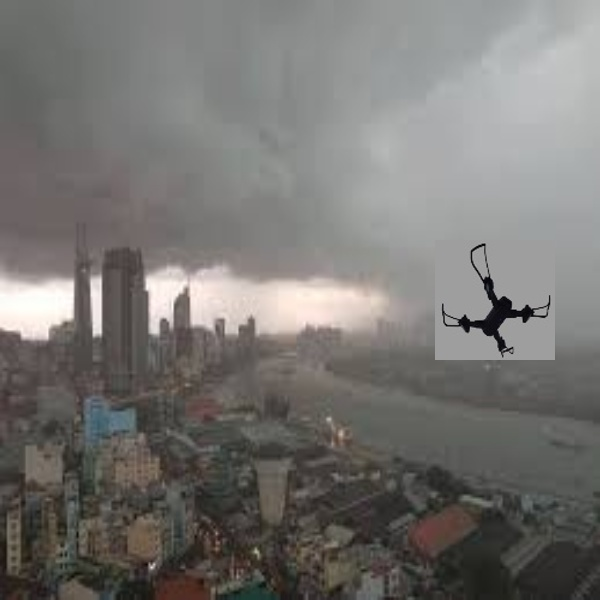drone: (438, 232, 558, 358)
